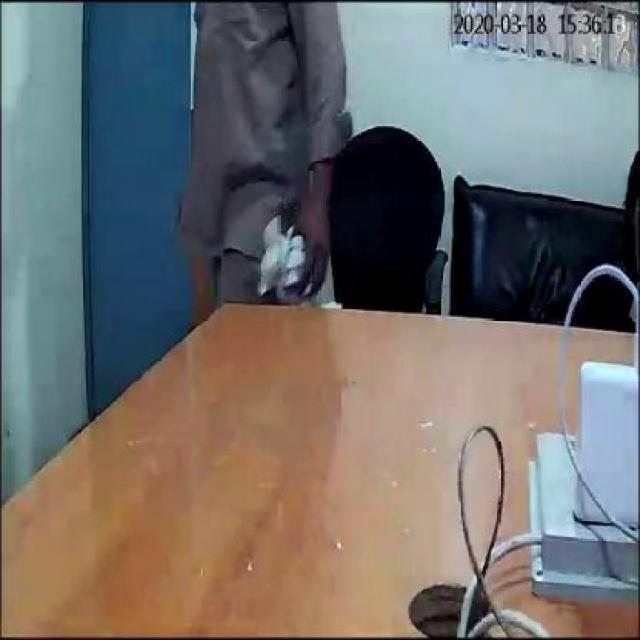spill: (295, 373, 437, 561)
